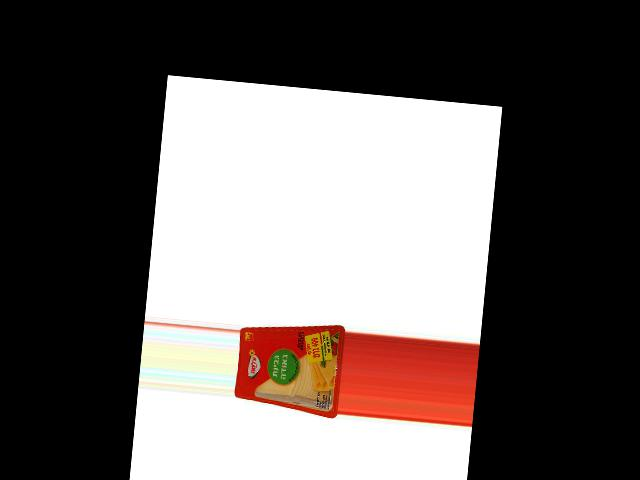cheese: (233, 315, 346, 418)
